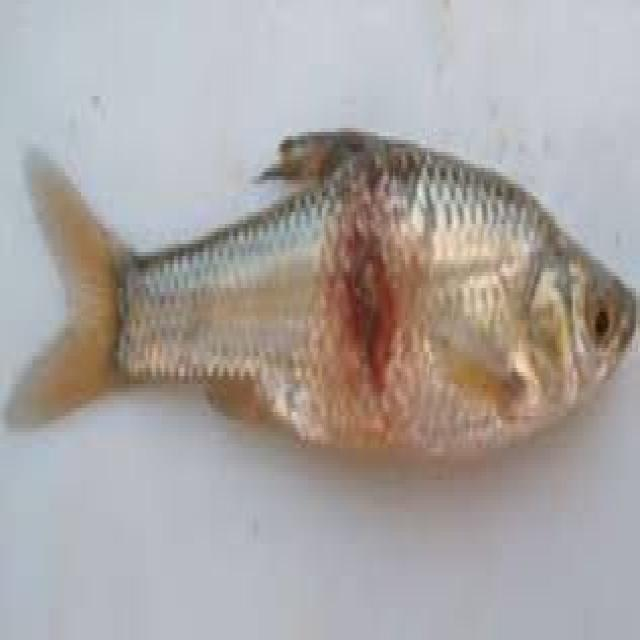EUS Disease: (4, 136, 640, 452), (290, 162, 451, 435)
